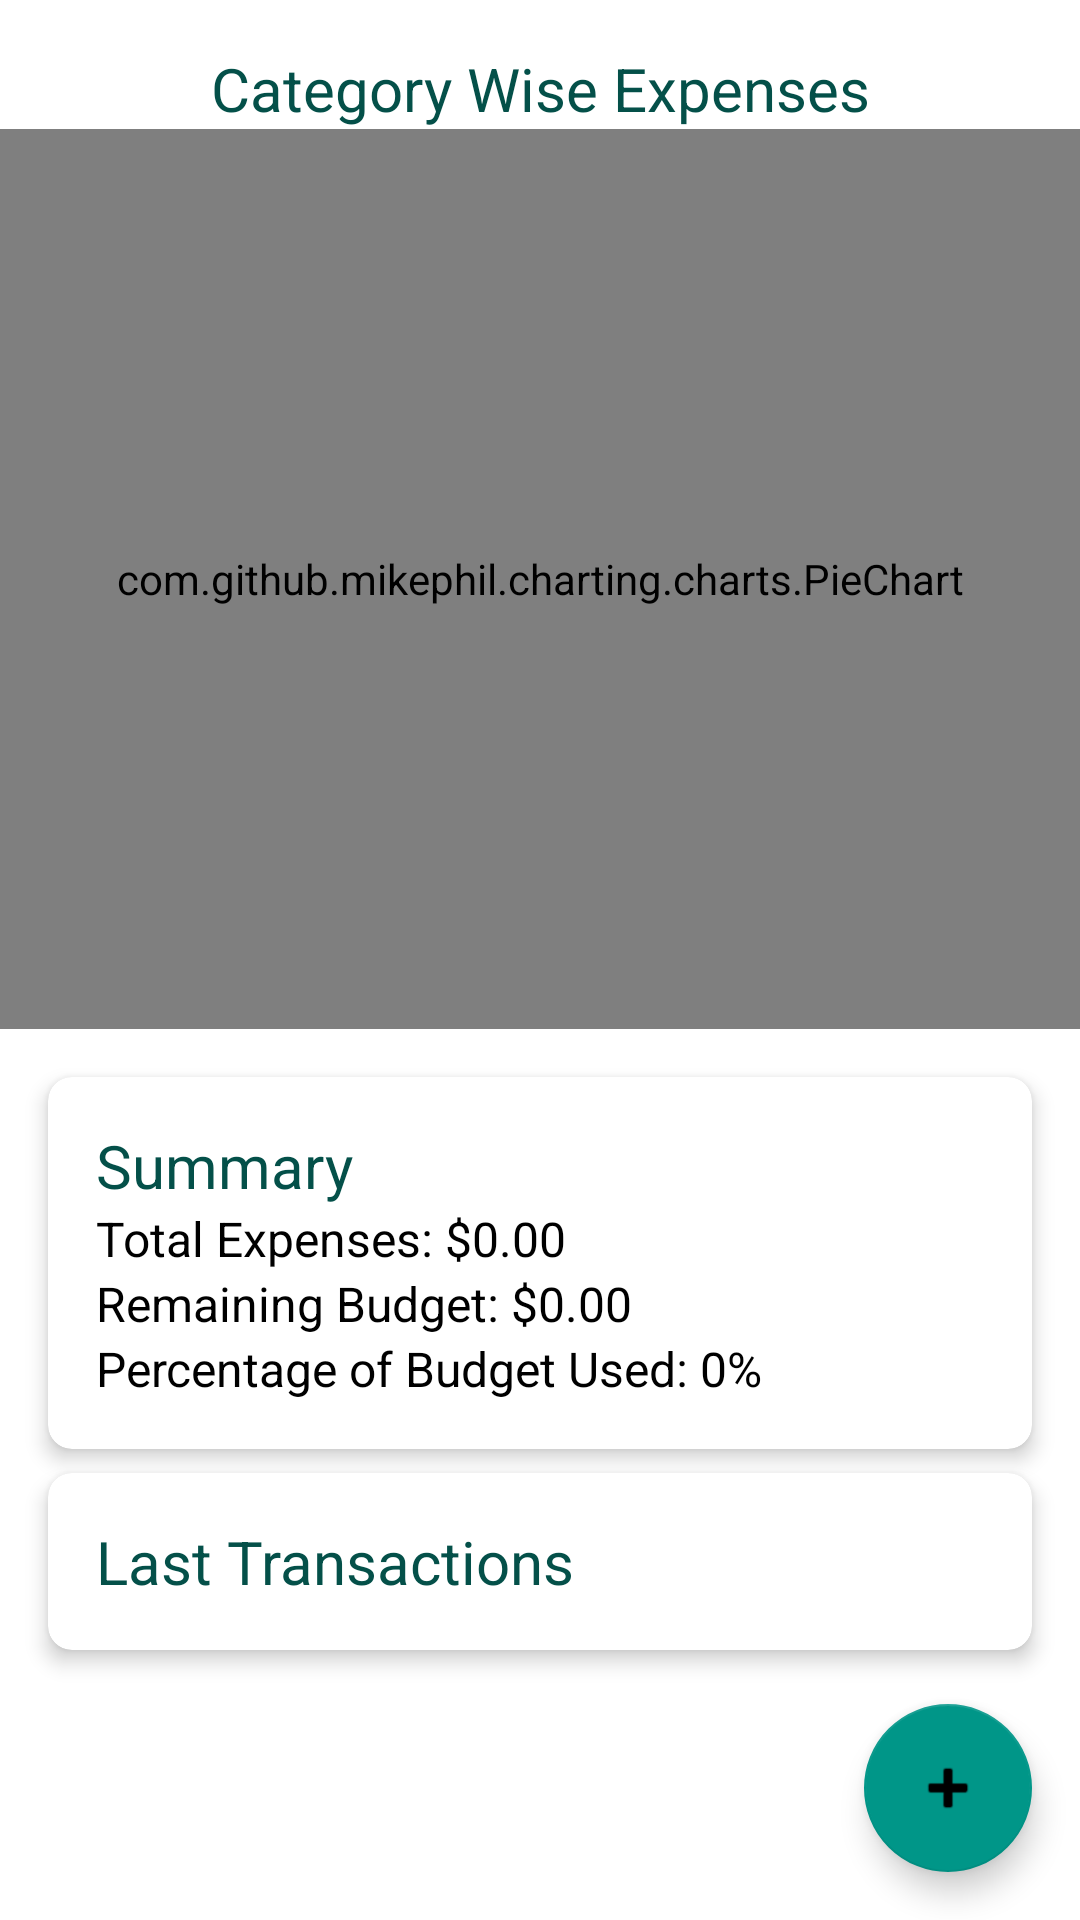

Icons on this 1080×1920 Android screen, each with the point to tap as (x,y):
Add Your Expense: (948,1788)
